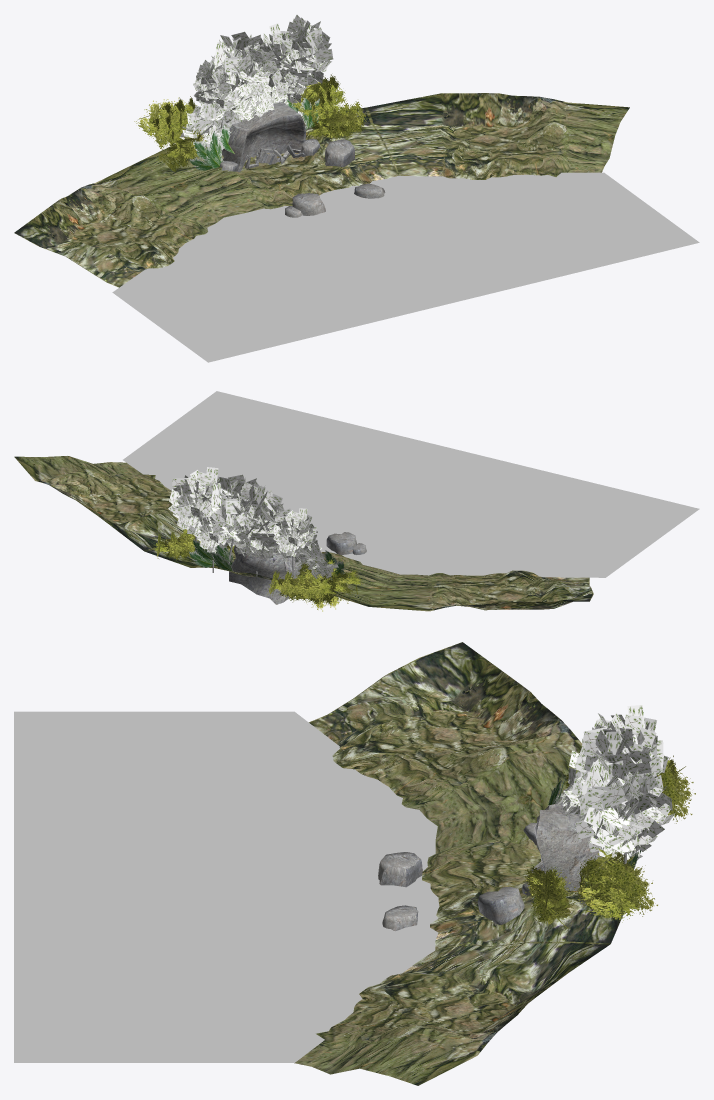
The model's file is Garden.fbx.
3 renders of one model, top to bottom at view 1: azimuth 30°, elevation 25°; view 2: azimuth 150°, elevation 25°; view 3: azimuth 270°, elevation 25°, orthographic. The views are drawn at different scales.
Visible parts, largest first — view 1: pPlane345, pPlane342, pCube3, pPlane278, pPlane279, pPlane280, pPlane338, pPlane262, pPlane336, pPlane335, pPlane260, pPlane261 (+5 smaller); view 2: pPlane345, pPlane342, pPlane279, pPlane278, pCube3, pPlane280, pPlane260, pPlane338, pPlane337, pPlane262, pPlane336, pPlane259 (+2 smaller); view 3: pPlane345, pPlane342, pPlane278, pPlane336, pCube3, pPlane280, pPlane335, pPlane279, pCube4, pCube6, pPlane338, pCube1.
Boxes of the visible parts, x1,y1,x2,y2 form: pPlane345: (112, 172, 699, 362); pPlane342: (14, 93, 629, 287); pCube3: (221, 102, 305, 172); pPlane278: (286, 15, 333, 110); pPlane279: (210, 31, 266, 91); pPlane280: (246, 23, 293, 96); pPlane338: (134, 96, 197, 148); pPlane262: (179, 102, 242, 149); pPlane336: (288, 74, 345, 126); pPlane335: (306, 101, 368, 140); pPlane260: (193, 60, 230, 108); pPlane261: (232, 82, 276, 120); pPlane345: (123, 391, 699, 577); pPlane342: (14, 456, 593, 611); pPlane279: (233, 482, 290, 576); pPlane278: (168, 467, 220, 560); pCube3: (229, 545, 299, 604); pPlane280: (199, 474, 266, 563); pPlane260: (273, 508, 317, 575); pPlane338: (267, 570, 336, 605); pPlane337: (297, 559, 362, 611); pPlane262: (291, 540, 338, 580); pPlane336: (153, 531, 204, 560); pPlane259: (193, 513, 234, 572); pPlane345: (14, 711, 439, 1062); pPlane342: (294, 642, 624, 1085); pPlane278: (575, 752, 675, 863); pPlane336: (574, 848, 657, 922); pCube3: (534, 803, 642, 890); pPlane280: (563, 730, 663, 814); pPlane335: (523, 863, 576, 928); pPlane279: (583, 705, 668, 772); pCube4: (378, 852, 422, 887); pCube6: (477, 886, 524, 924); pPlane338: (657, 755, 695, 823); pCube1: (382, 905, 418, 931).
Bounding box in the file's own units: 207 × 41.42 × 140.
